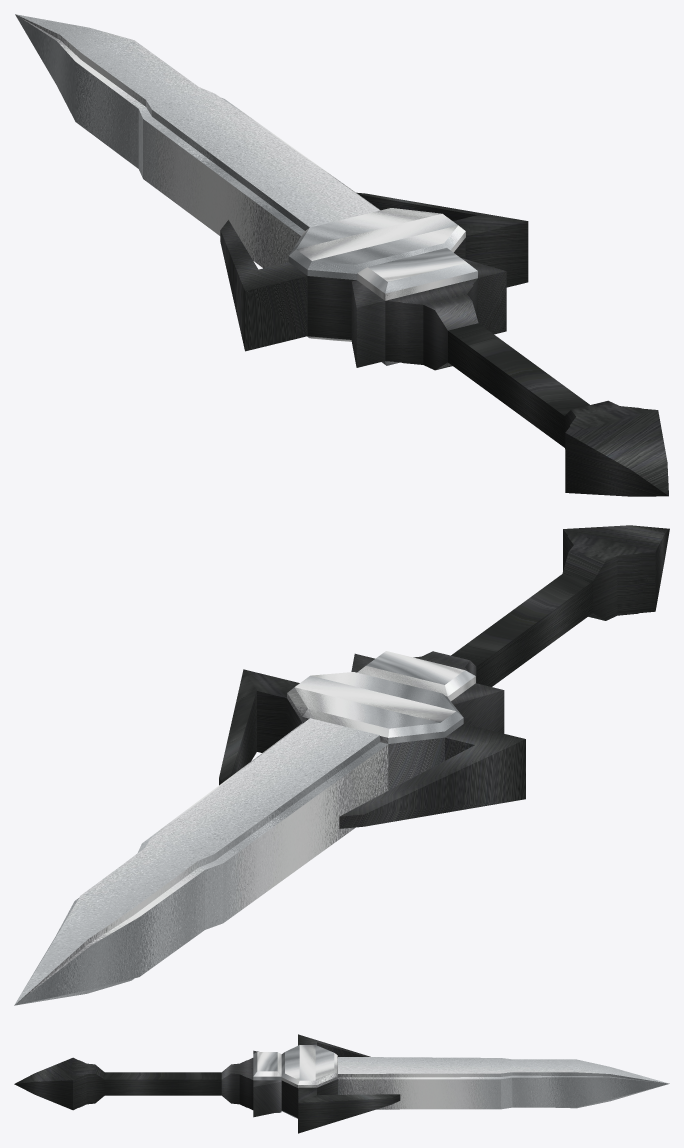
File: Dagger.fbx
The picture shows the model from 3 angles, top to bottom: view 1: azimuth 30°, elevation 25°; view 2: azimuth 150°, elevation 25°; view 3: azimuth 270°, elevation 25°; orthographic projection. The views are drawn at different scales.
Parts seen in each view (by area): view 1: RealDagger; view 2: RealDagger; view 3: RealDagger.
Part boxes in pixels (<box>): RealDagger: <box>15,14,668,496</box>; RealDagger: <box>14,525,669,1005</box>; RealDagger: <box>14,1034,669,1133</box>.
Bounding box in the file's own units: 1.03 × 0.2834 × 4.13.
4 materials, 3 textured.
